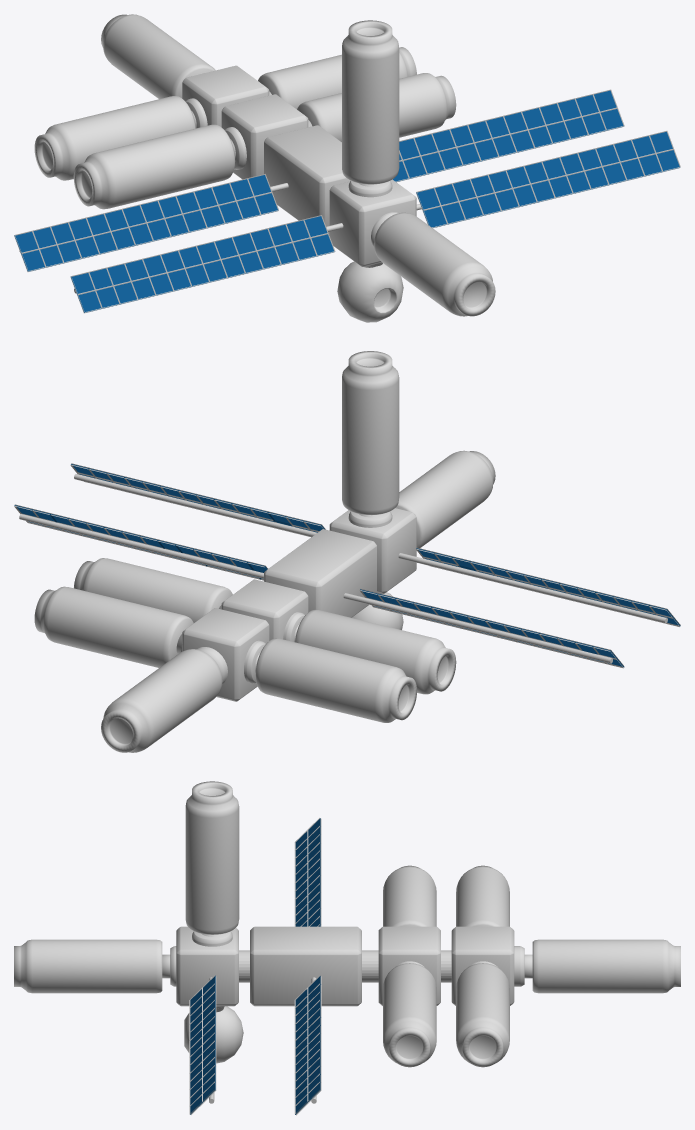
File: Spacestation.fbx
3 views of the same model, one above another, from view 1: azimuth 30°, elevation 25°; view 2: azimuth 150°, elevation 25°; view 3: azimuth 270°, elevation 25° (orthographic). The views are drawn at different scales.
Parts seen in each view (by area): view 1: Cube; view 2: Cube; view 3: Cube.
Part boxes in pixels (bbox=[...]): Cube: bbox=[14, 14, 680, 322]; Cube: bbox=[14, 351, 680, 752]; Cube: bbox=[14, 781, 680, 1115].
Size of the model in its own units: 2061 by 958 by 2135.
